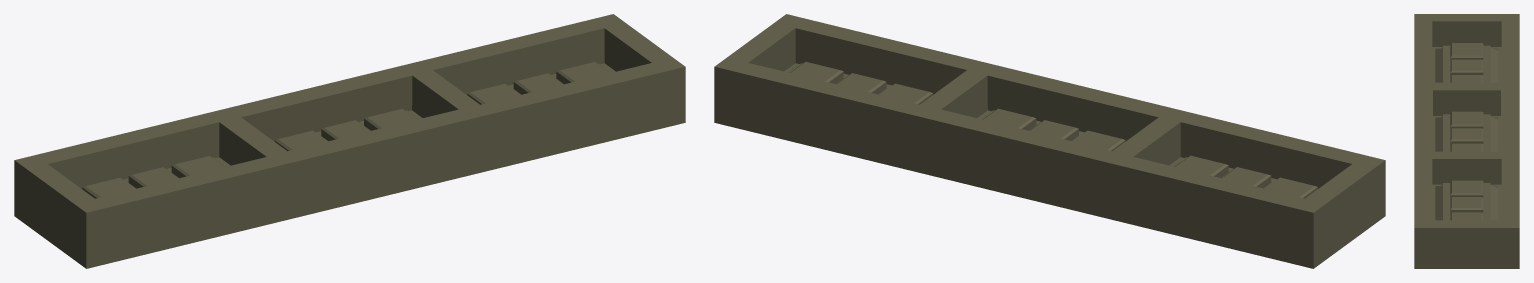
File: side ceiling.fbx
3 views of the same model, side by side, from view 1: azimuth 30°, elevation 25°; view 2: azimuth 150°, elevation 25°; view 3: azimuth 270°, elevation 25° (orthographic). The views are drawn at different scales.
Visible parts, largest first — view 1: CIELING.001; view 2: CIELING.001; view 3: CIELING.001.
Part boxes in pixels (left/top/right/bottom): CIELING.001: left=14, top=14, right=685, bottom=268; CIELING.001: left=714, top=14, right=1385, bottom=268; CIELING.001: left=1414, top=14, right=1519, bottom=268.
Bounding box in the file's own units: 22432 × 2008 × 4669.
